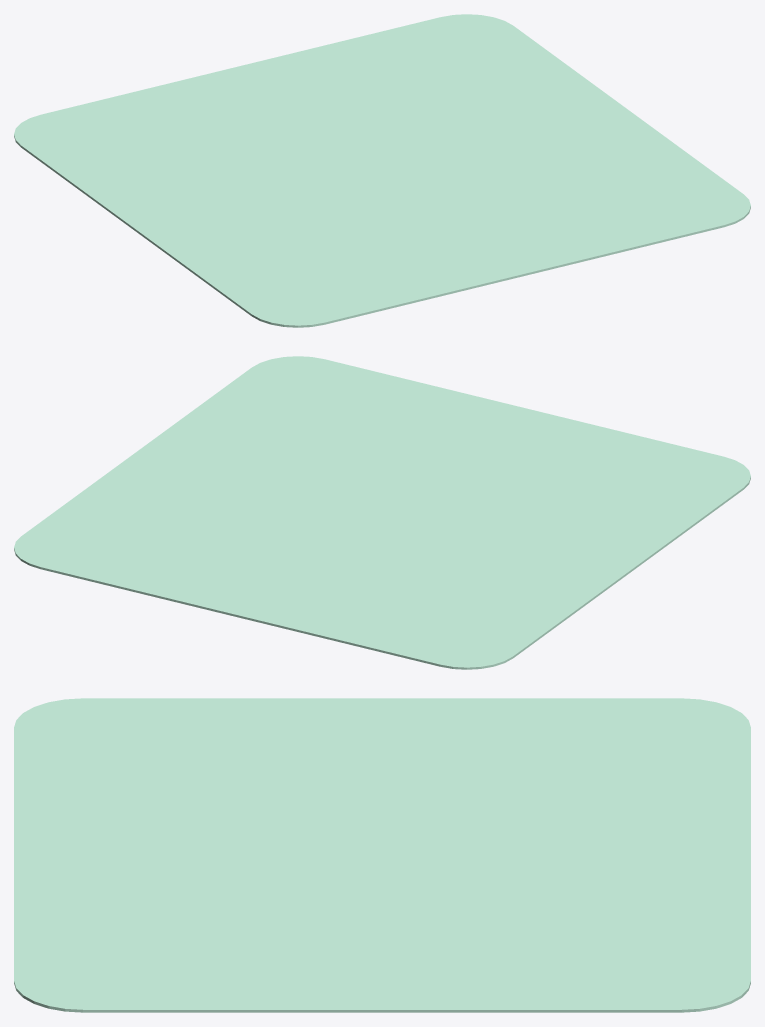
3 views of the same model, one above another, from view 1: azimuth 30°, elevation 25°; view 2: azimuth 150°, elevation 25°; view 3: azimuth 270°, elevation 25° (orthographic). The views are drawn at different scales.
Parts seen in each view (by area): view 1: COM-02 Floor Surface; view 2: COM-02 Floor Surface; view 3: COM-02 Floor Surface.
Boxes of the visible parts, x1,y1,x2,y2 form: COM-02 Floor Surface: (14,14,750,327); COM-02 Floor Surface: (14,356,750,669); COM-02 Floor Surface: (14,698,750,1012).
Size of the model in its own units: 1.92 by 0.008 by 1.92.
1 material, 1 textured.
